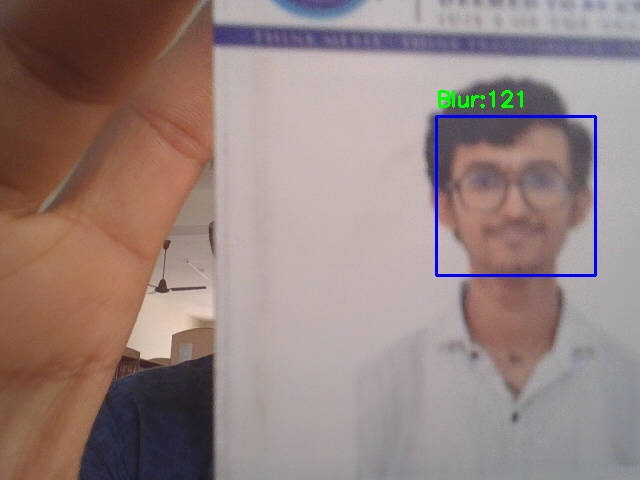fake: (436, 116, 595, 275)
